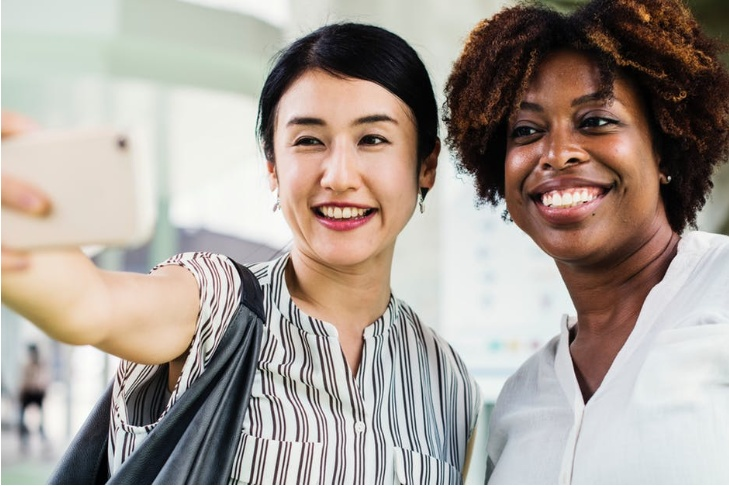face: (503, 57, 660, 257), (279, 74, 418, 265)
